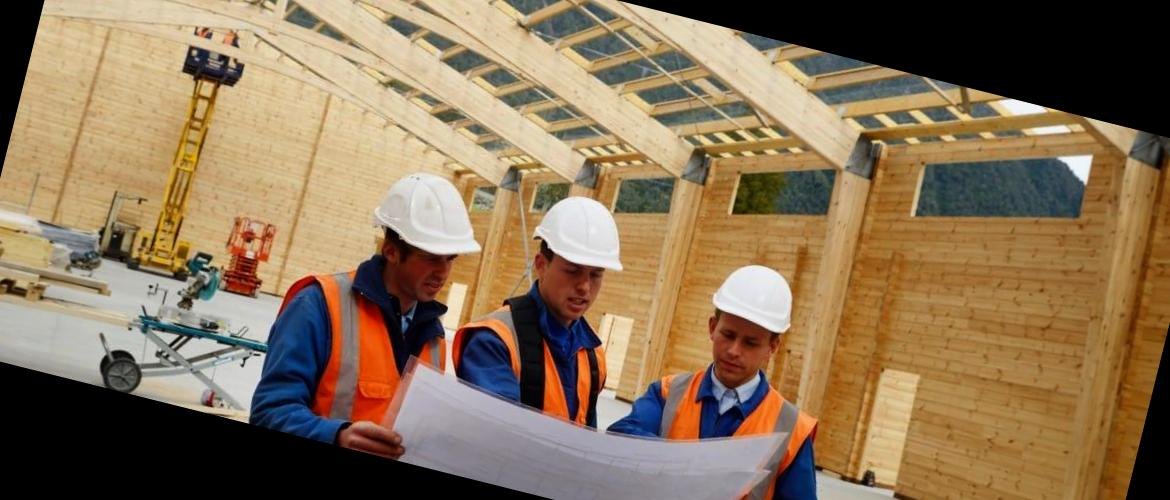helmet: (362, 148, 502, 269), (524, 184, 638, 290), (704, 256, 808, 340)
person: (242, 130, 490, 466), (593, 241, 875, 500), (442, 171, 664, 416)
